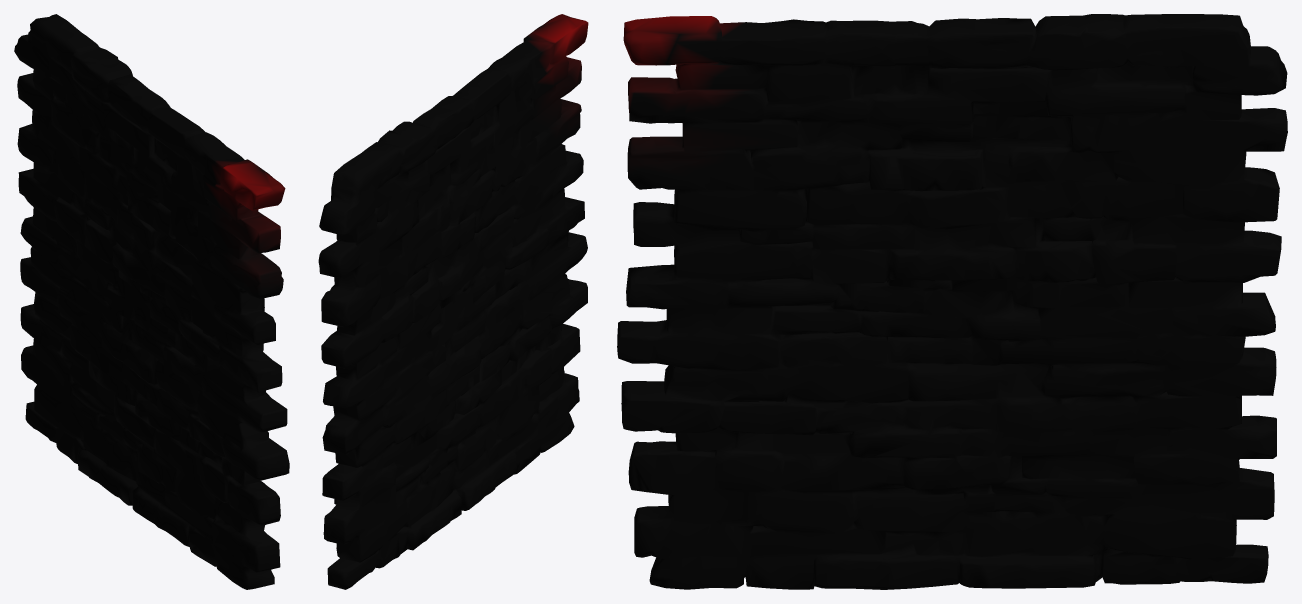
The model's file is SM_Brick_Wall_FullXFull.fbx.
3 views of the same model, side by side, from view 1: azimuth 30°, elevation 25°; view 2: azimuth 150°, elevation 25°; view 3: azimuth 270°, elevation 25° (orthographic). The views are drawn at different scales.
Visible parts, largest first — view 1: SM_Brick_Wall_FullXFull_LOD0; view 2: SM_Brick_Wall_FullXFull_LOD0; view 3: SM_Brick_Wall_FullXFull_LOD0.
Boxes of the visible parts, bbox=[...] form: SM_Brick_Wall_FullXFull_LOD0: bbox=[14, 14, 289, 589]; SM_Brick_Wall_FullXFull_LOD0: bbox=[318, 14, 588, 589]; SM_Brick_Wall_FullXFull_LOD0: bbox=[617, 14, 1287, 589].
Bounding box in the file's own units: 17.86 × 206 × 192.
